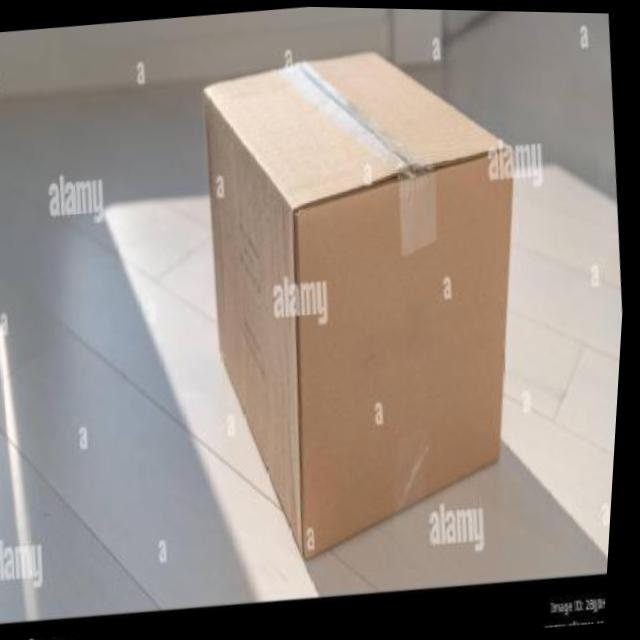box: (172, 21, 565, 583)
